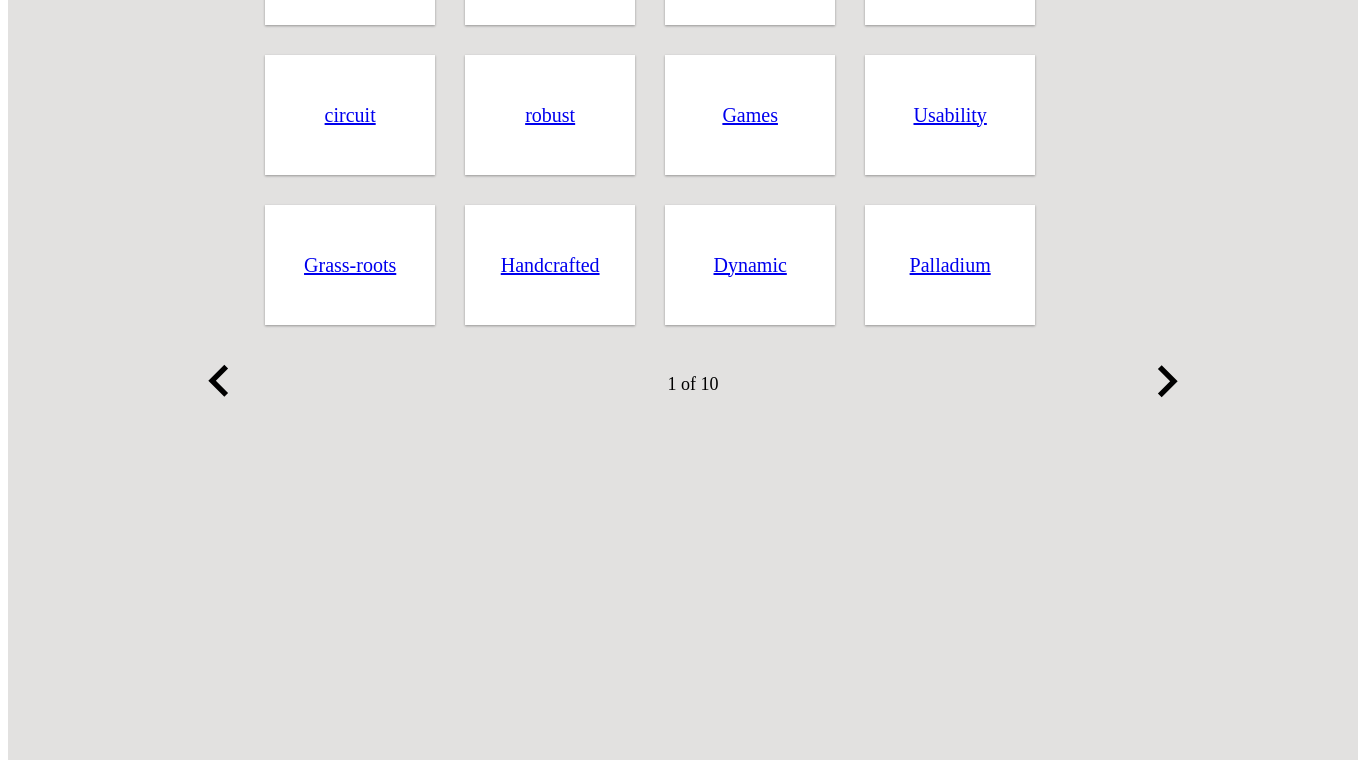
Test case: HomePage › should be able to click on nextPage and reload pokemons
(page scrolled)
Click the 2nd button at {"x": 1167, "y": 384}, box left=1135, top=350, right=1199, bottom=418
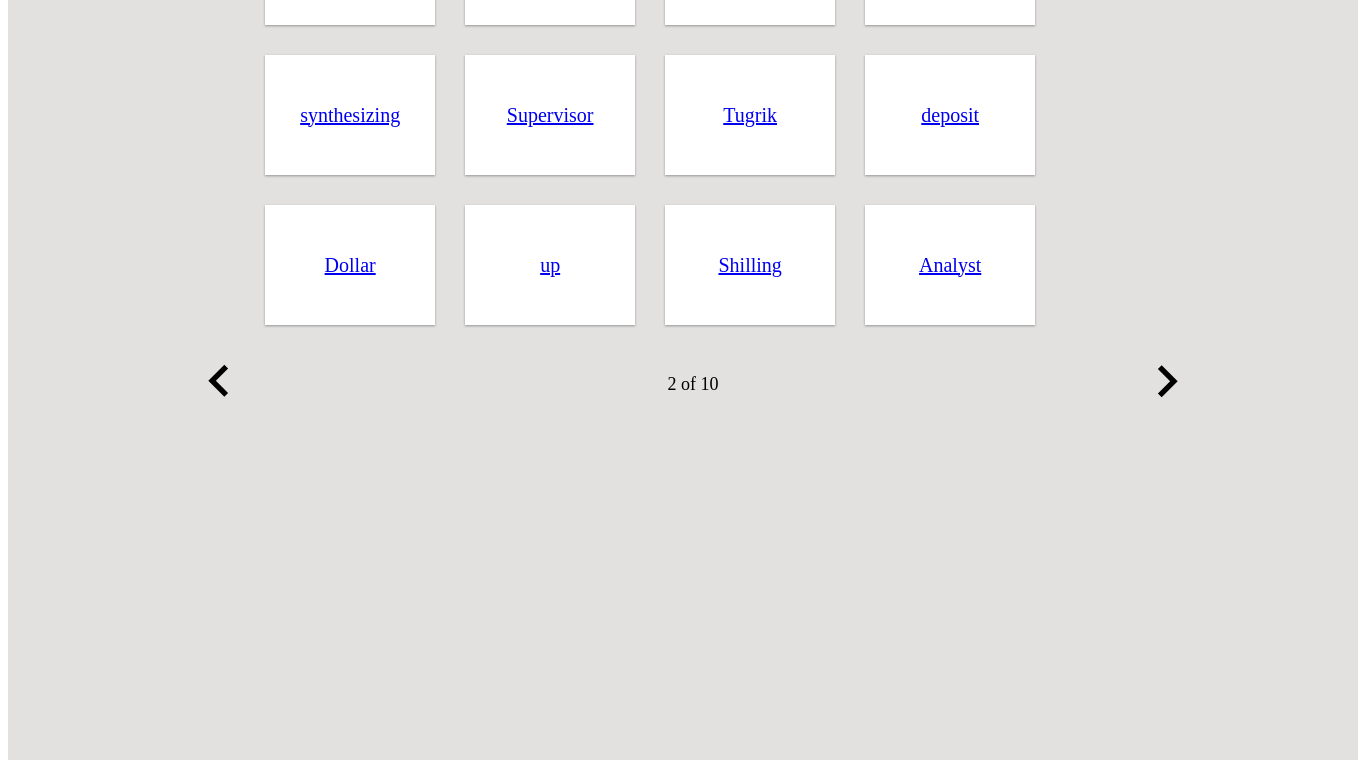
Result: the text "2 of 10" is shown at left=668, top=374, right=718, bottom=394
